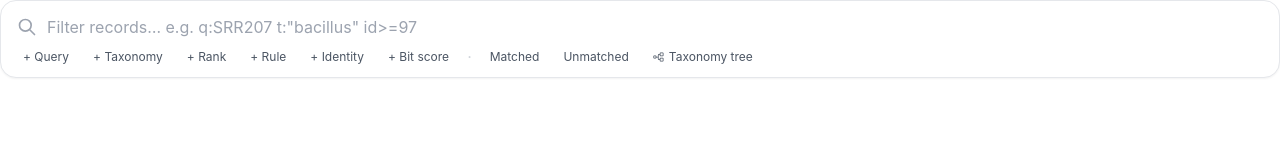
Scenario: FilterBar › '+ Rule' inserts rule: into the box and focuses it
Click the button "+ Rule".
click(268, 57)  # box [240, 47, 296, 67]
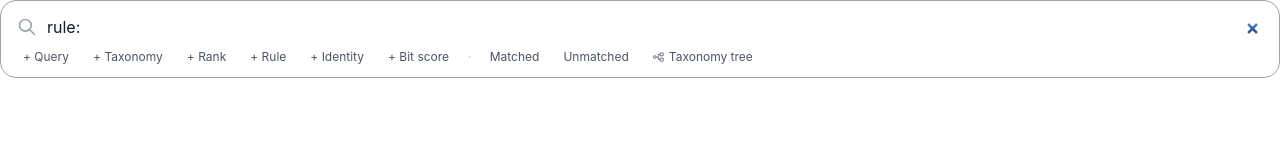
Expected: the dropdown named "Filter records" holds "rule:", [45, 13, 1263, 41]
